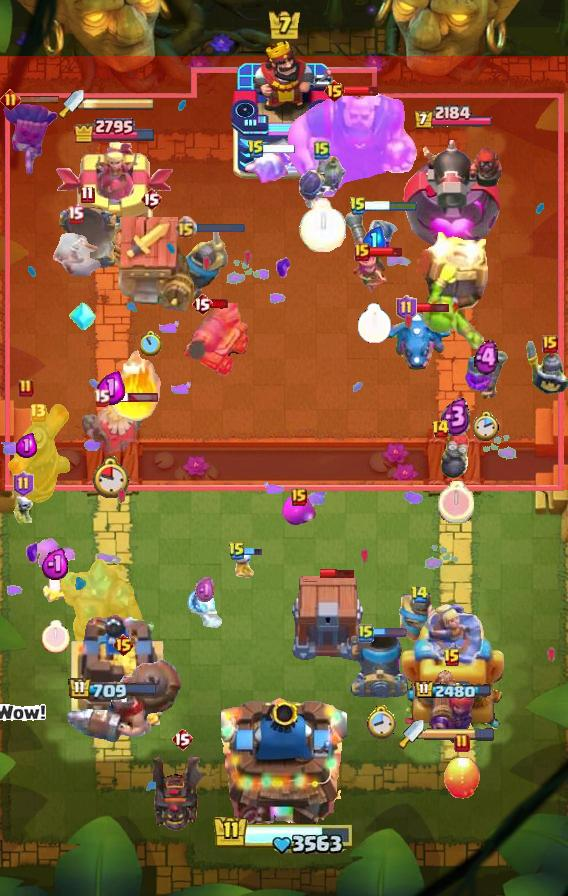archer: (351, 252, 397, 298)
bandit: (48, 224, 102, 276)
bar: (365, 200, 418, 213), (194, 222, 246, 234), (107, 392, 159, 403), (9, 94, 61, 105), (415, 301, 450, 314), (367, 246, 403, 258), (343, 85, 379, 97), (372, 627, 408, 638), (320, 568, 356, 579), (263, 144, 296, 154), (211, 298, 230, 310), (244, 546, 263, 557)
bar-level: (112, 633, 135, 657), (323, 79, 346, 103), (13, 471, 34, 497), (396, 295, 417, 321), (174, 216, 197, 239), (171, 727, 193, 751), (191, 292, 213, 316), (140, 187, 162, 211), (0, 89, 21, 110), (431, 419, 450, 439), (410, 585, 429, 604), (443, 648, 461, 668), (228, 541, 246, 561), (349, 196, 367, 216), (247, 139, 265, 159), (93, 388, 110, 407), (67, 205, 84, 224), (454, 733, 470, 753), (358, 623, 374, 643), (18, 378, 34, 398), (314, 140, 330, 160), (291, 488, 307, 506), (542, 335, 558, 353), (354, 243, 370, 261), (80, 185, 95, 204)
bomber: (440, 429, 472, 479)
bomber-evolution: (295, 150, 349, 212)
cannoneer-tower: (400, 132, 507, 256)
clock: (299, 198, 346, 252), (93, 456, 130, 498), (438, 481, 474, 523), (357, 303, 392, 344), (365, 703, 396, 739), (42, 620, 70, 653), (473, 410, 500, 442), (140, 331, 162, 356)
dagger-duchess-tower: (398, 595, 508, 731), (55, 142, 174, 256)
dagger-duchess-tower-bar: (424, 727, 496, 741), (84, 97, 156, 111)
dart-goblin: (0, 99, 60, 175)
electro-dragon: (381, 310, 453, 374)
elixir: (441, 397, 471, 436), (41, 548, 71, 581), (97, 371, 125, 405), (474, 340, 499, 376), (362, 226, 386, 255), (195, 576, 217, 604), (16, 433, 37, 458)
elixir-golem-small: (281, 497, 317, 527)
firecracker-evolution: (428, 670, 476, 746)
guard: (524, 340, 568, 398)
ice-spirit: (185, 578, 227, 630)
ice-spirit-evolution: (243, 151, 293, 189)
ice-spirit-evolution-symbol: (69, 299, 97, 333)
king-tower: (221, 690, 347, 826), (230, 41, 338, 181)
king-tower-bar: (212, 815, 356, 857)
knight: (178, 232, 229, 302), (397, 593, 441, 648)
mortar: (55, 205, 119, 271), (350, 634, 410, 698)
musketeer: (343, 210, 399, 274), (463, 348, 509, 404)
phoenix-egg: (442, 756, 482, 800)
queen-tower: (63, 613, 166, 731)
royal-ghost: (80, 394, 142, 454)
skeleton: (42, 567, 70, 607), (232, 549, 262, 581), (11, 494, 35, 526)
tower-bar: (68, 677, 160, 702), (72, 116, 157, 143), (413, 105, 494, 131), (414, 680, 493, 701)
